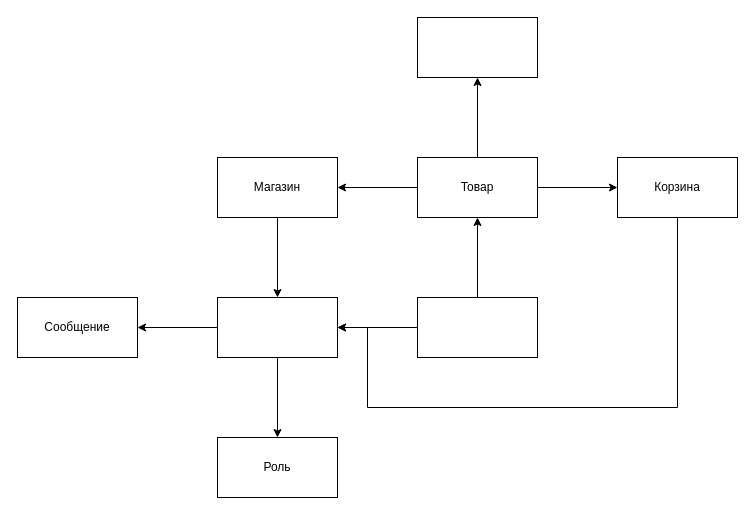
The diagram is 755 pixels wide and 515 high, and some of its shapes have lost their labels. The centre of each missing label's shape, as x and y in pixels:
"Заказ" belongs at [477,327].
"Категория" belongs at [477,47].
"Пользователь" belongs at [277,327].
